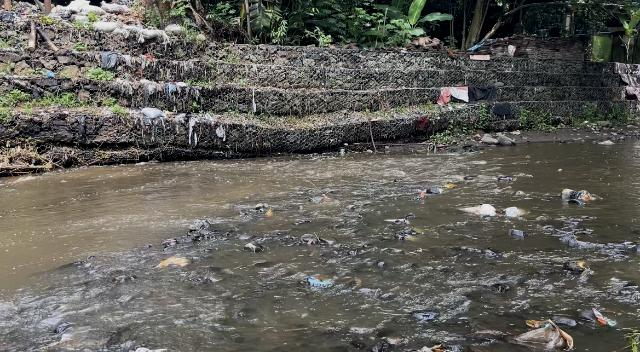Sampah Anorganik: (513, 321, 576, 351), (301, 271, 336, 295), (587, 306, 616, 330), (561, 188, 595, 204), (458, 205, 496, 218), (384, 217, 411, 225), (504, 207, 525, 217), (442, 183, 457, 190)
Sampah Organik: (379, 341, 460, 352), (148, 254, 193, 269), (396, 227, 428, 243), (157, 239, 182, 247), (577, 259, 589, 270), (263, 209, 274, 218), (320, 194, 331, 201), (419, 189, 425, 199)
